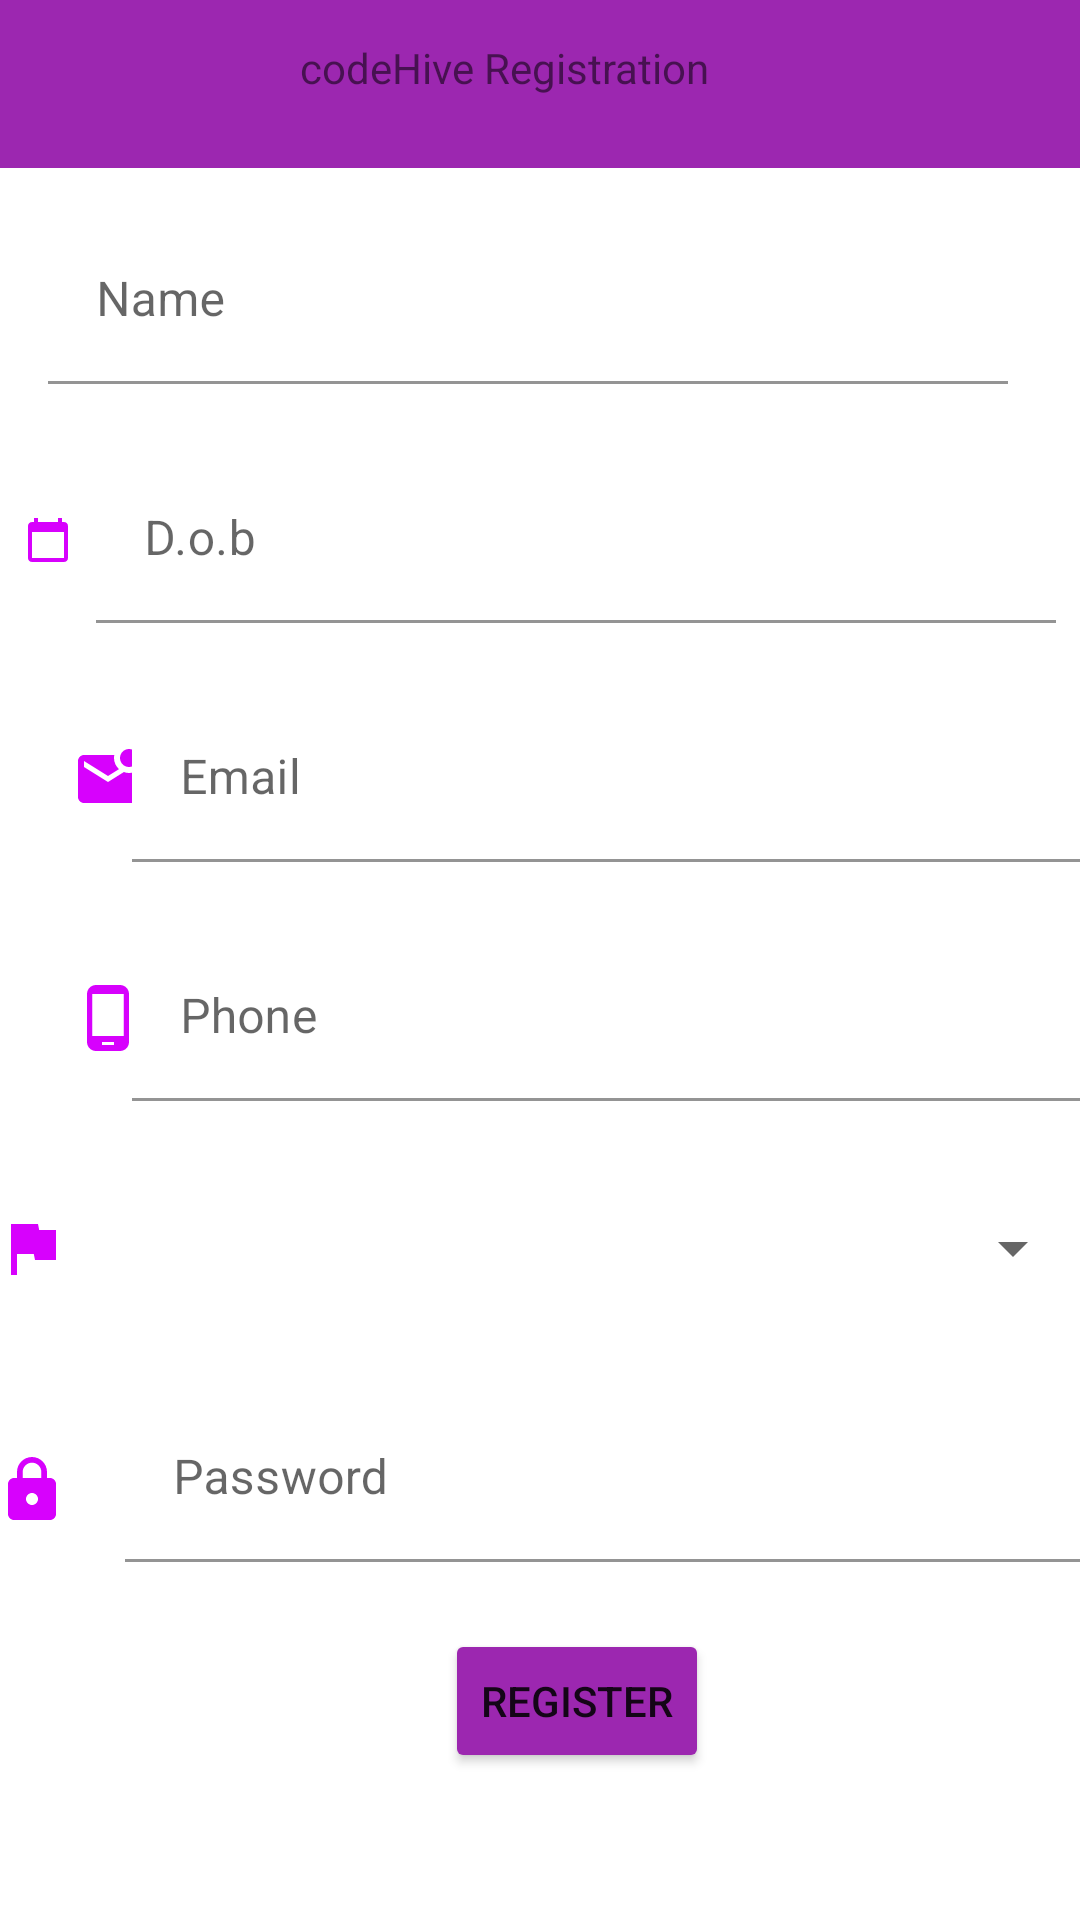

Screen size 1080w x 1920h. Icon name, then its center in pixels as point (x, y):
calendar today: point (48, 540)
flag: point (33, 1249)
lock: point (32, 1488)
